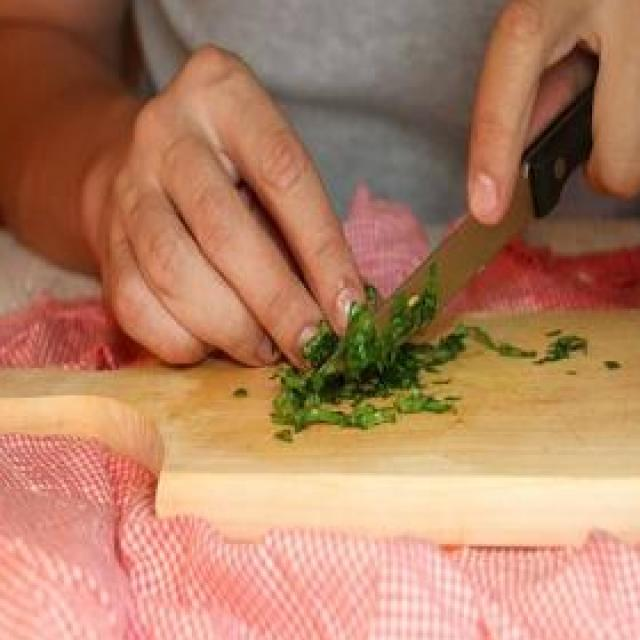knife: (300, 43, 620, 407)
